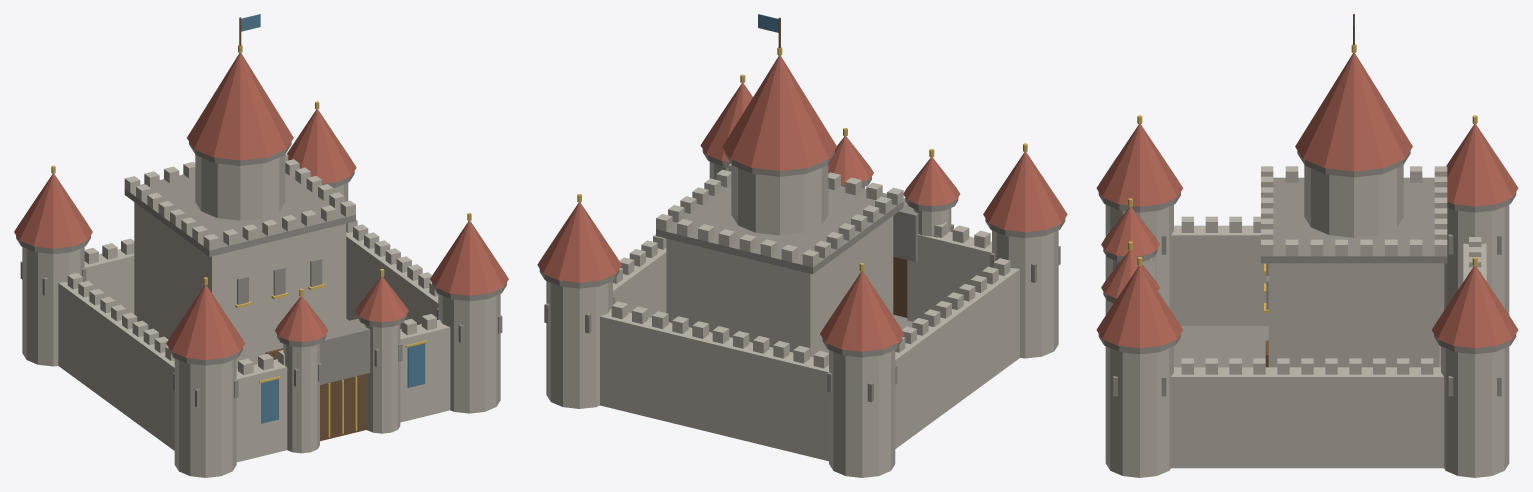
File: castillo.glb
3 renders of one model, left to right at view 1: azimuth 30°, elevation 25°; view 2: azimuth 150°, elevation 25°; view 3: azimuth 270°, elevation 25°, orthographic. The views are drawn at different scales.
Visible parts, largest first — view 1: homenaje, muralla_o, torre_so, homenaje_torreon_tejado, torre_se, homenaje_cornisa, homenaje_torreon, torre_no, muralla_s_i, muralla_s_d, muralla_e, torre_porton_i (+13 smaller); view 2: muralla_n, homenaje, muralla_o, torre_no, homenaje_torreon_tejado, torre_ne, homenaje_cornisa, homenaje_torreon, torre_so, muralla_s_i, torre_ne_tejado, torre_so_tejado (+9 smaller); view 3: muralla_e, homenaje, muralla_o, torre_ne, torre_se, homenaje_torreon_tejado, homenaje_cornisa, homenaje_torreon, torre_no, torre_ne_tejado, torre_se_tejado, torre_so_tejado (+10 smaller).
Part boxes in pixels (x1,y1,x2,y2): homenaje: (134,202,346,368); muralla_o: (58,282,174,450); torre_so: (174,358,236,477); homenaje_torreon_tejado: (187,53,293,160); torre_se: (438,294,500,413); homenaje_cornisa: (124,173,355,256); homenaje_torreon: (195,155,285,220); torre_no: (22,247,84,366); muralla_s_i: (236,359,287,462); muralla_s_d: (400,319,450,422); muralla_e: (346,232,438,328); torre_porton_i: (283,343,319,453); muralla_n: (600,308,828,461); homenaje: (666,216,893,357); muralla_o: (895,268,1019,448); torre_no: (829,350,895,477); homenaje_torreon_tejado: (722,56,836,170); torre_ne: (546,281,612,408); homenaje_cornisa: (656,184,903,274); homenaje_torreon: (731,164,828,235); torre_so: (992,230,1058,358); muralla_s_i: (907,231,991,321); torre_ne_tejado: (537,202,621,282); torre_so_tejado: (983,152,1067,232); muralla_e: (1171,367,1443,468); homenaje: (1268,263,1439,367); muralla_o: (1171,225,1443,325); torre_ne: (1441,346,1509,477); torre_se: (1105,346,1173,477); homenaje_torreon_tejado: (1295,53,1412,171); homenaje_cornisa: (1261,177,1447,263); homenaje_torreon: (1304,165,1403,237); torre_no: (1444,205,1509,314); torre_ne_tejado: (1432,266,1518,348); torre_se_tejado: (1096,266,1182,348); torre_so_tejado: (1096,124,1183,206).
Bounding box in the file's own units: 27.2 × 27 × 27.2.
